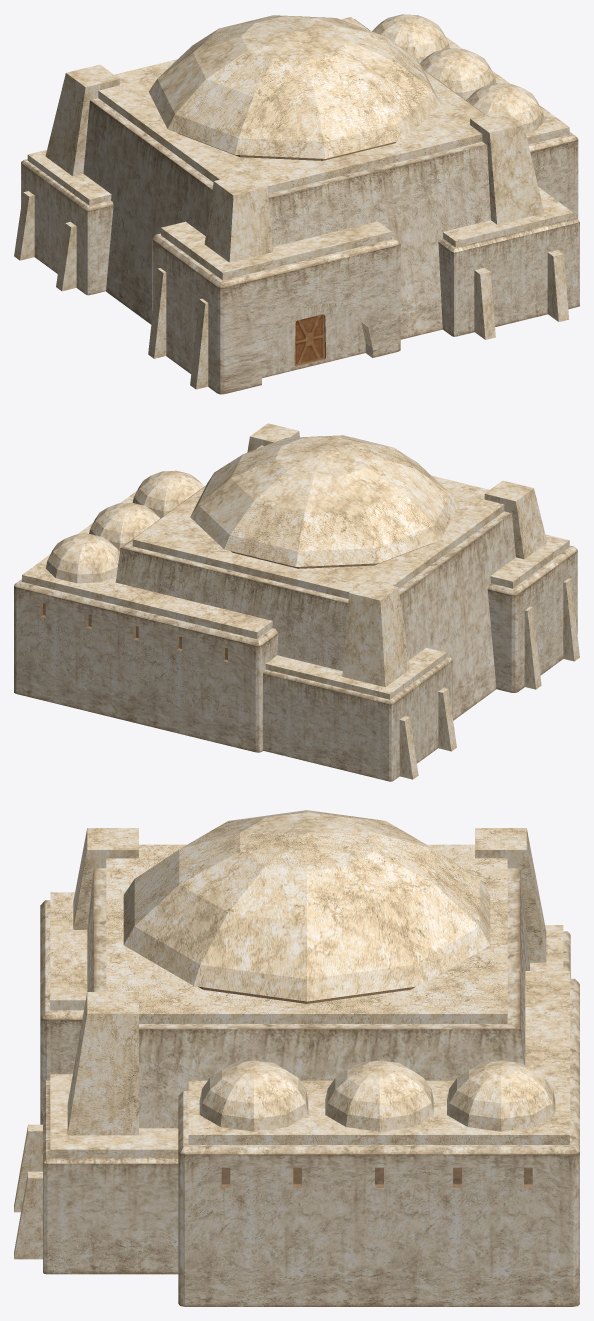
The model's file is thm_tato_imprv_building_s05_l0.fbx.
3 renders of one model, top to bottom at view 1: azimuth 30°, elevation 25°; view 2: azimuth 150°, elevation 25°; view 3: azimuth 270°, elevation 25°, orthographic. The views are drawn at different scales.
Visible parts, largest first — view 1: mesh_node; view 2: mesh_node; view 3: mesh_node.
Boxes of the visible parts, x1,y1,x2,y2 form: mesh_node: (14,14,579,394); mesh_node: (14,423,579,781); mesh_node: (14,810,579,1306).
Size of the model in its own units: 29.01 by 16.02 by 25.5.
